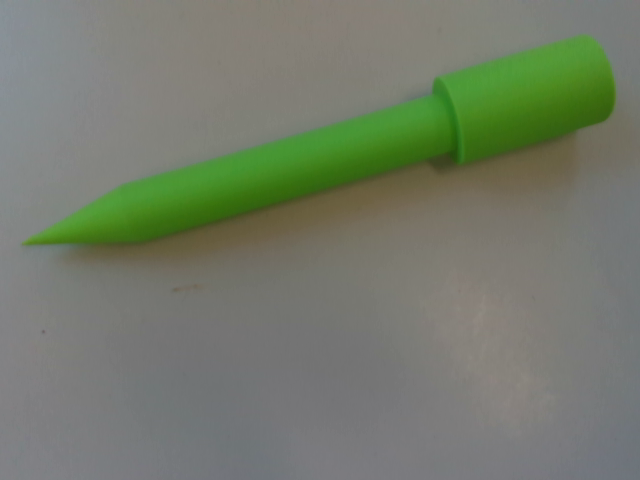Probe: (15, 26, 624, 258)
